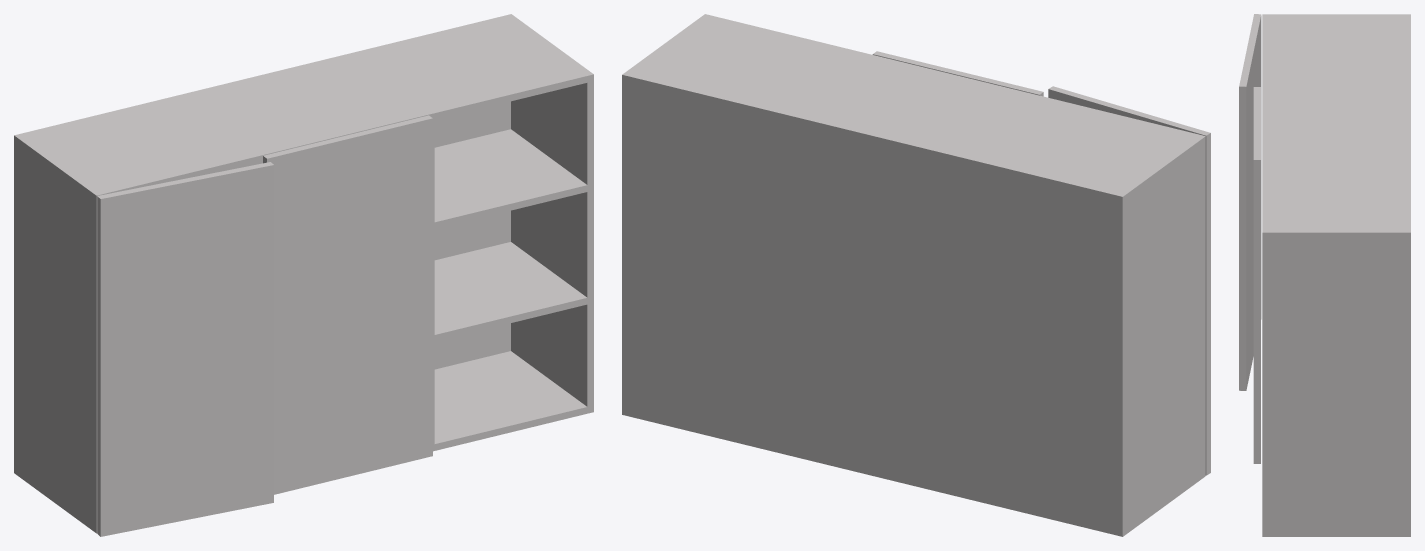
File: LC_3090_ShelfB_LOD1.FBX
3 renders of one model, left to right at view 1: azimuth 30°, elevation 25°; view 2: azimuth 150°, elevation 25°; view 3: azimuth 270°, elevation 25°, orthographic. The views are drawn at different scales.
Parts seen in each view (by area): view 1: LC_3090_ShelfB_LOD1; view 2: LC_3090_ShelfB_LOD1; view 3: LC_3090_ShelfB_LOD1.
Boxes of the visible parts, bbox=[...] form: LC_3090_ShelfB_LOD1: bbox=[14, 14, 593, 536]; LC_3090_ShelfB_LOD1: bbox=[622, 14, 1210, 536]; LC_3090_ShelfB_LOD1: bbox=[1239, 14, 1410, 536].
Size of the model in its own units: 119 by 77 by 39.4.
Materials: 1 (1 with a texture image).
